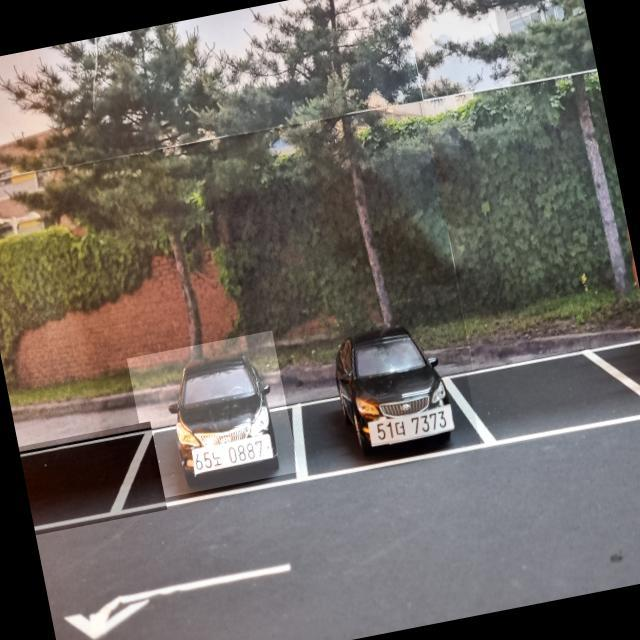empty: (466, 337, 640, 450), (19, 422, 168, 536)
occupied: (290, 298, 488, 476), (126, 330, 300, 500)
